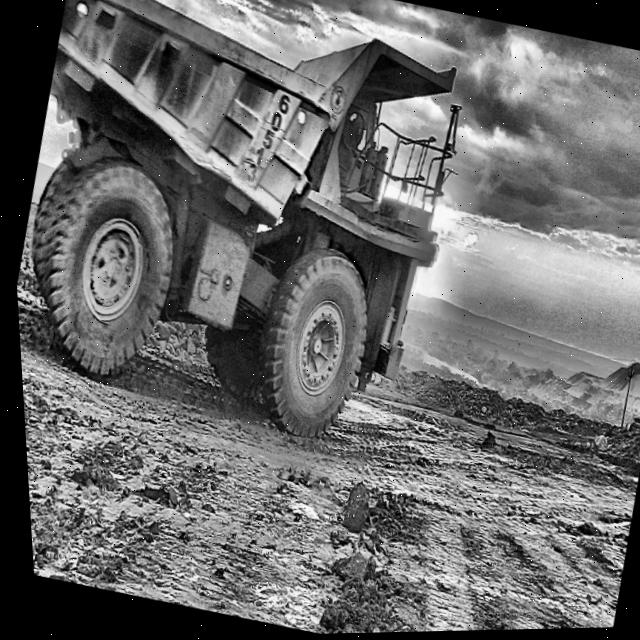dump_truck: (27, 0, 455, 436)
